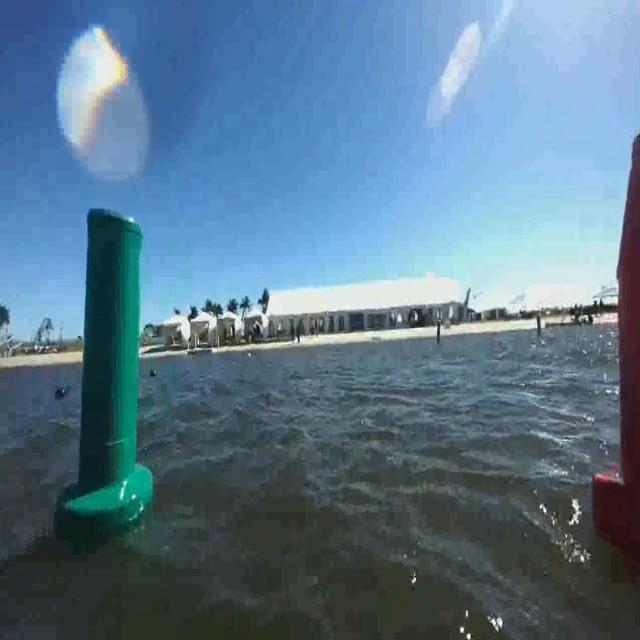green-column-buoy: (61, 210, 152, 535)
red-column-buoy: (590, 136, 640, 555)
